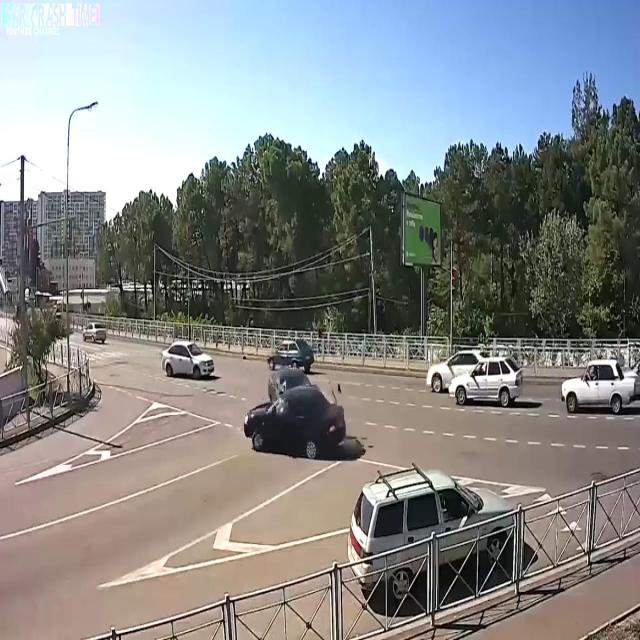accident: (240, 361, 368, 466)
non_accident: (422, 343, 526, 413)
